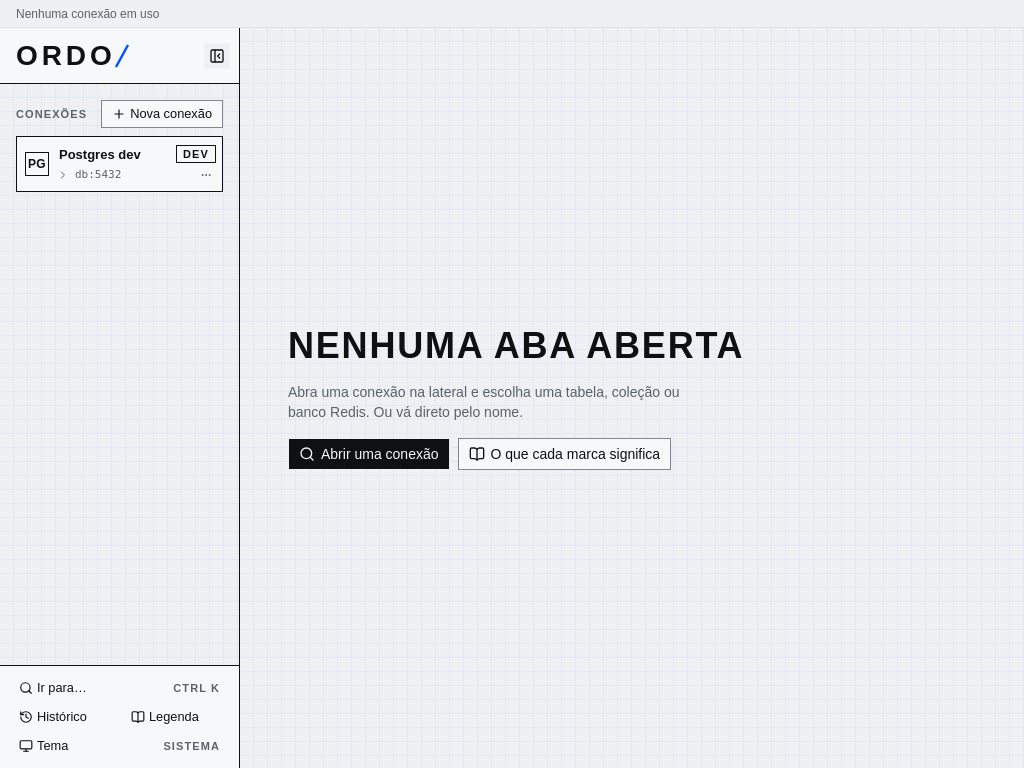
Test case: the connection menu opens it, and a backup is saved where the user chose
Click the button named "Ações de Postgres dev" at (206, 175), box [194, 163, 218, 187]
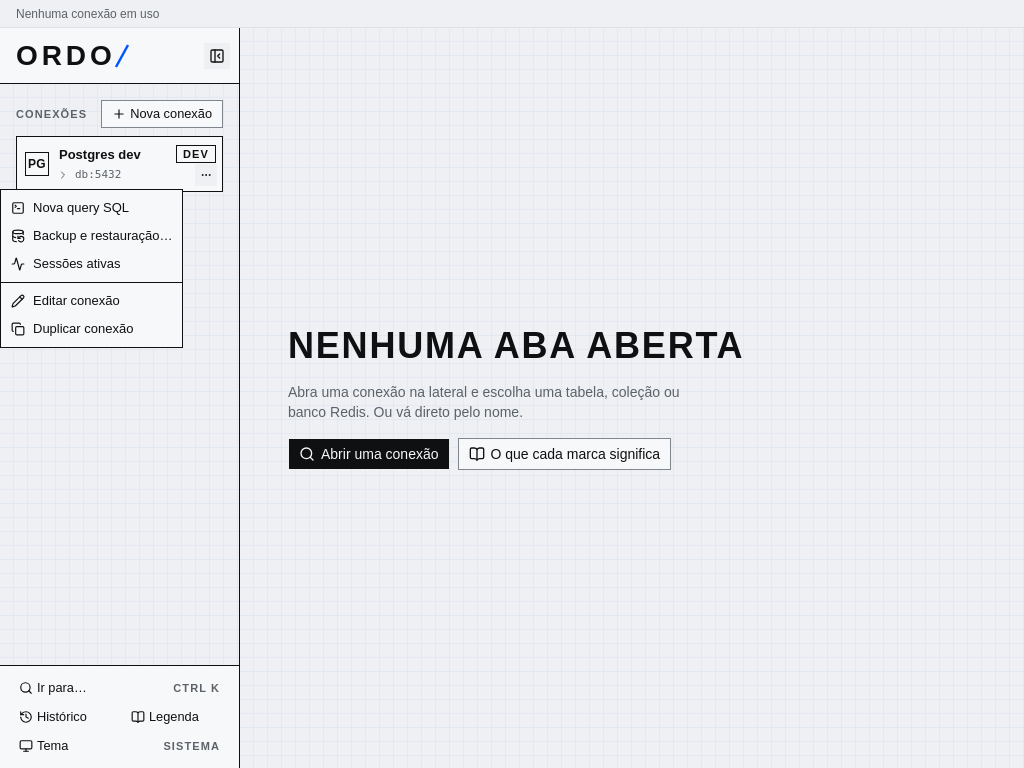
Click the menu item "Backup e restauração…" at (92, 236), box [11, 228, 172, 243]
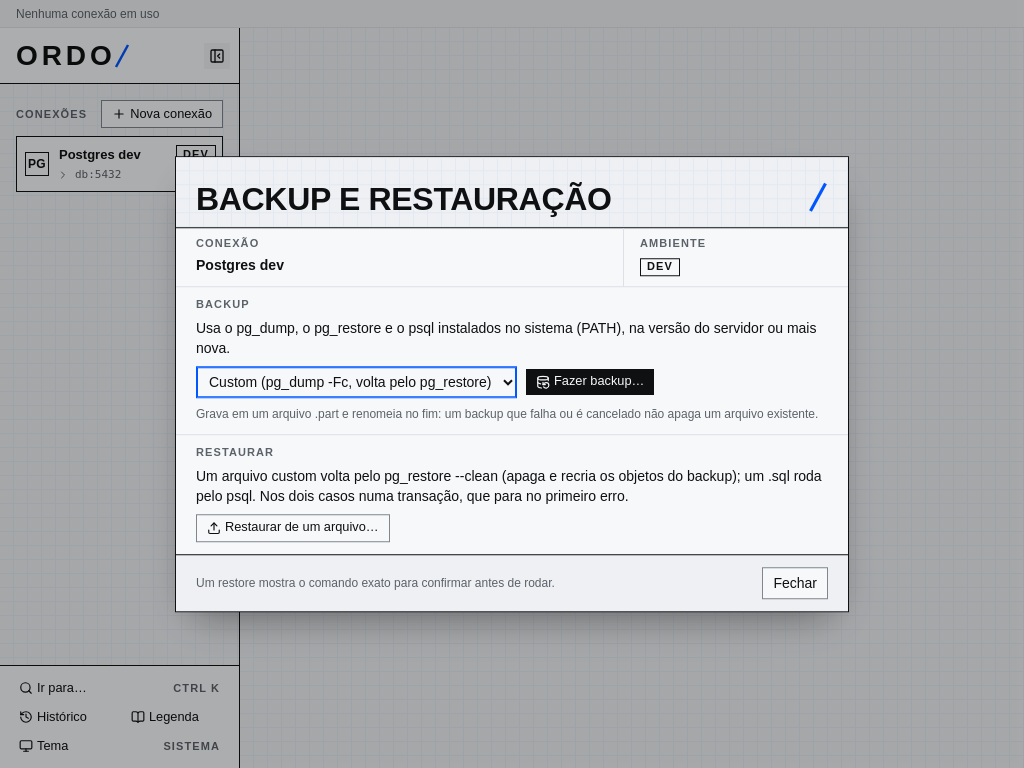
Select "SQL em texto (pg_dump -Fp, volta pelo psql)" in the dropdown named "Formato do backup" at (356, 382), box [196, 366, 517, 398]
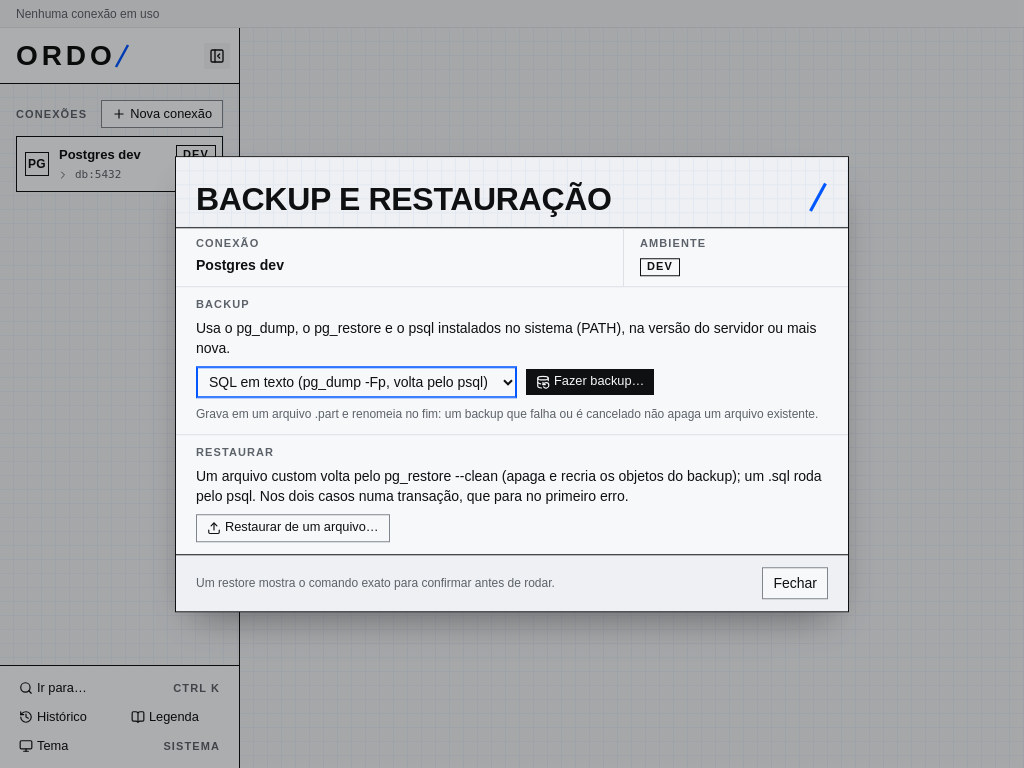
Click the button "Fazer backup…" at (590, 382), box [525, 368, 655, 396]
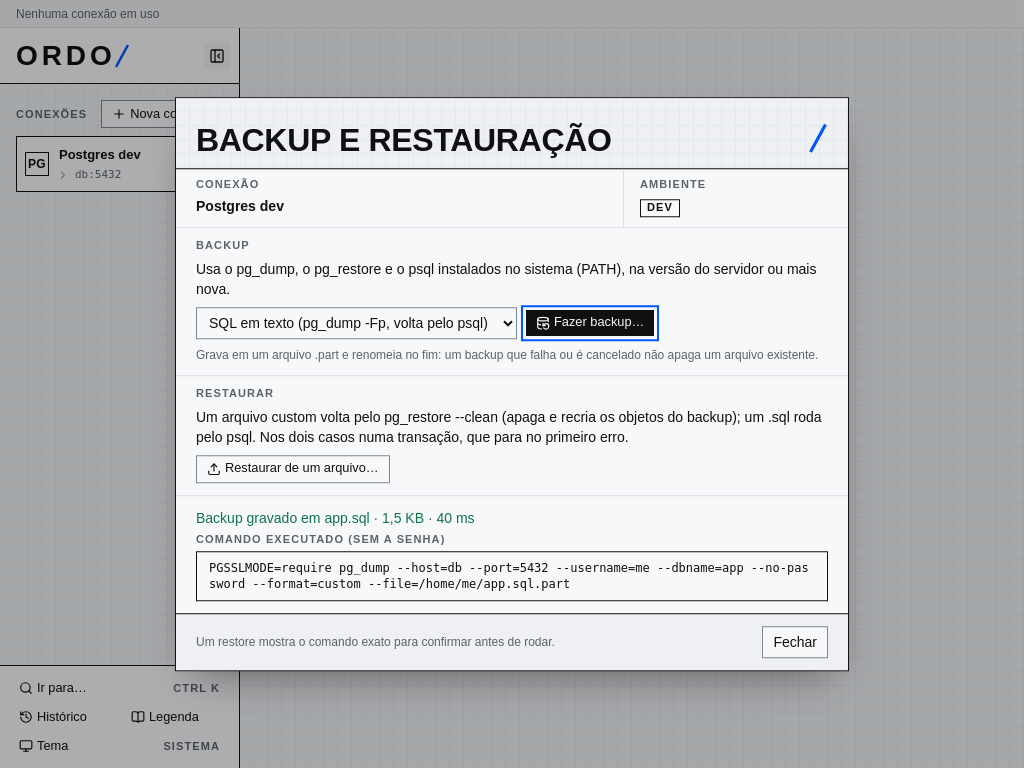
Result: the text "Backup gravado em app.sql · 1,5 KB · 40 ms" is shown at [196, 510, 475, 526]
Result: the text named "Comando executado" shows "pg_dump --host=db" at [209, 561, 809, 591]
